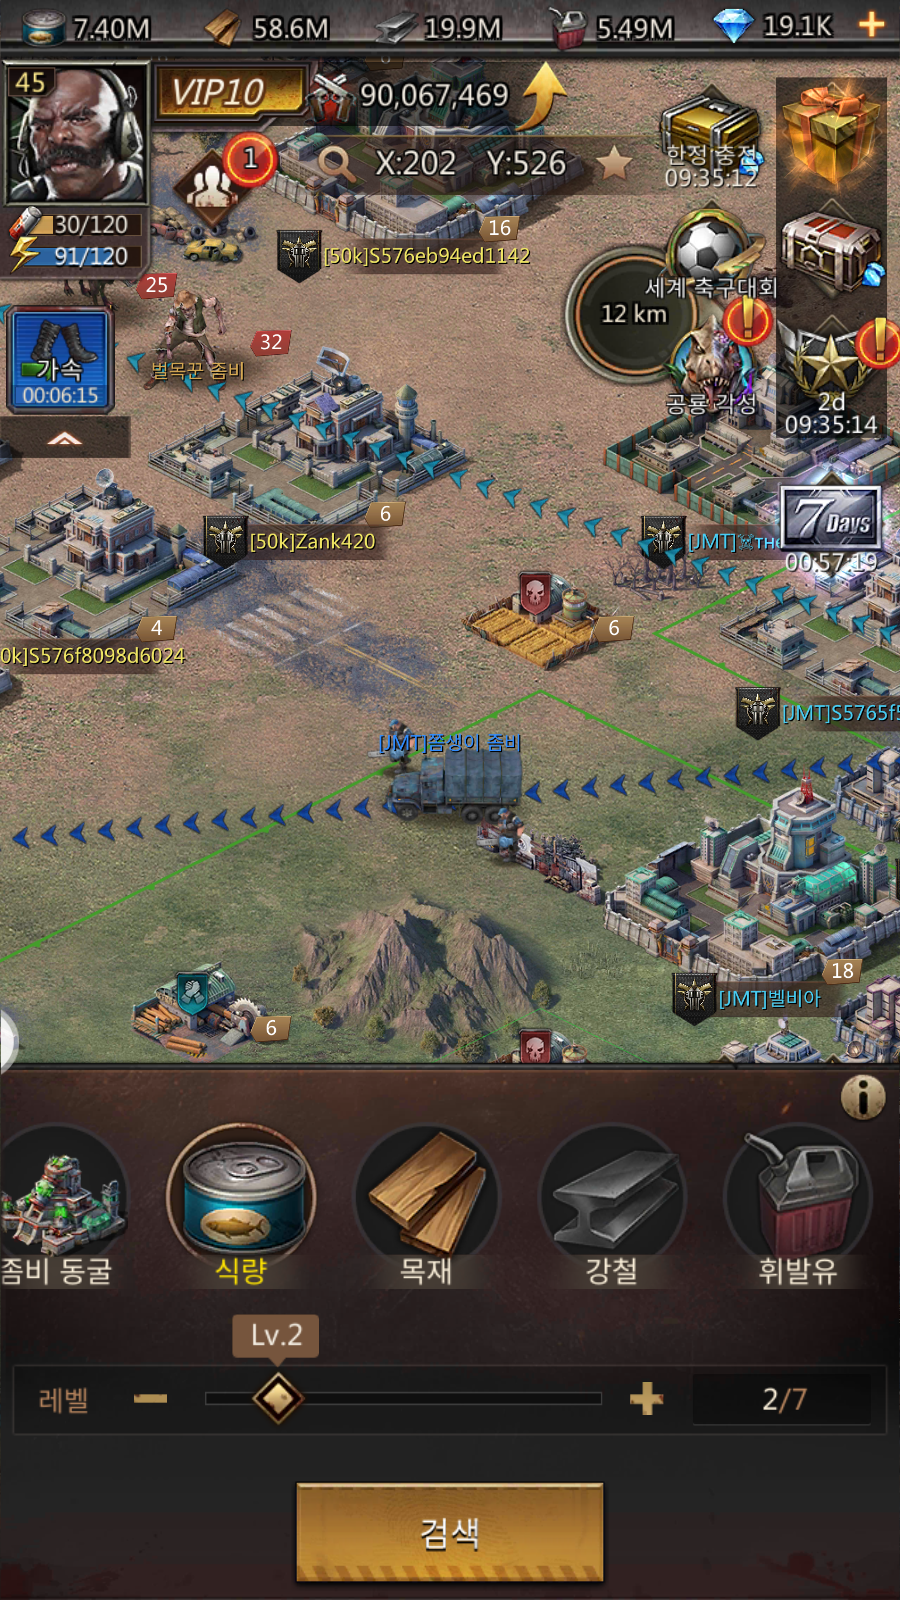rss_food_in_panel: (159, 1116, 322, 1291)
rss_gas_in_panel: (724, 1120, 876, 1296)
rss_lv2: (229, 1313, 320, 1362)
rss_minus_in_panel: (119, 1374, 181, 1416)
rss_plus_in_panel: (620, 1374, 668, 1422)
rss_search_in_panel: (297, 1484, 602, 1578)
rss_steel_in_panel: (538, 1119, 695, 1293)
rss_wood_in_panel: (354, 1119, 503, 1298)
troops_cnt_1: (163, 130, 288, 246)
